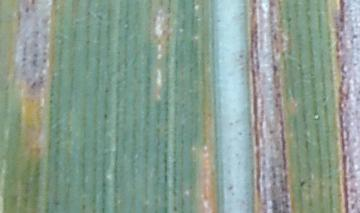tarspot: (336, 1, 347, 23), (296, 179, 306, 188), (272, 62, 278, 74), (101, 112, 109, 119), (102, 87, 110, 94), (23, 7, 31, 14), (29, 1, 36, 8)
